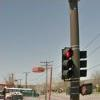Traffic light: (49, 37, 91, 88)
